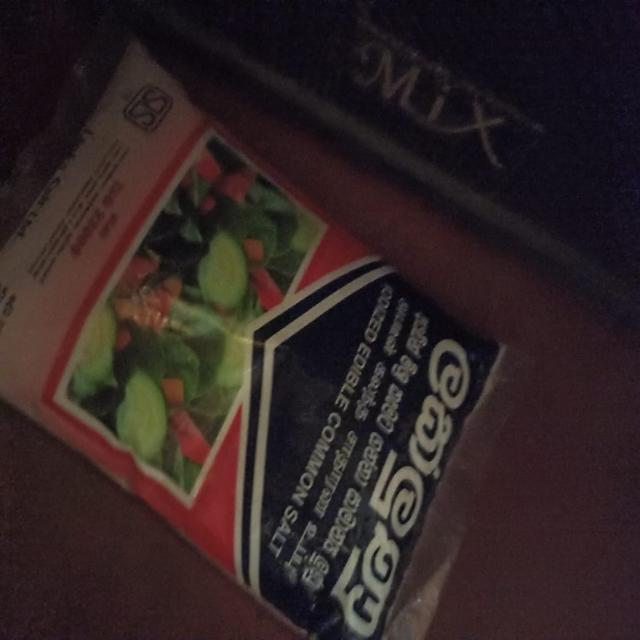Lak Lunu: (4, 25, 540, 640)
